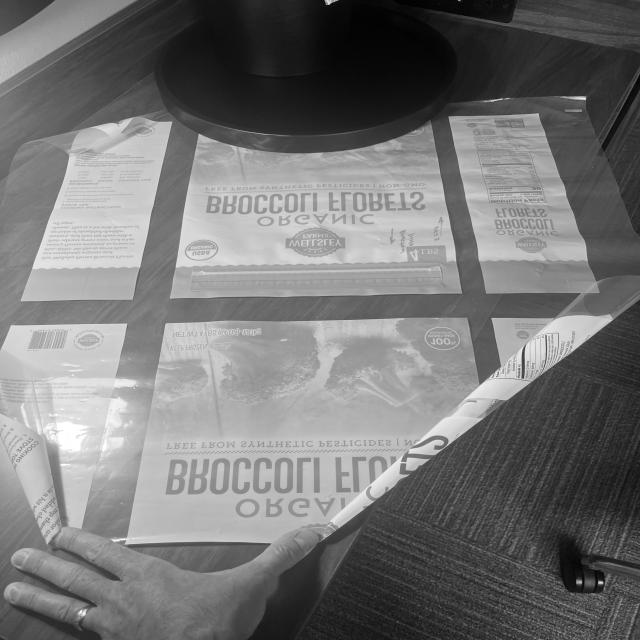zip_l: (189, 261, 444, 292)
